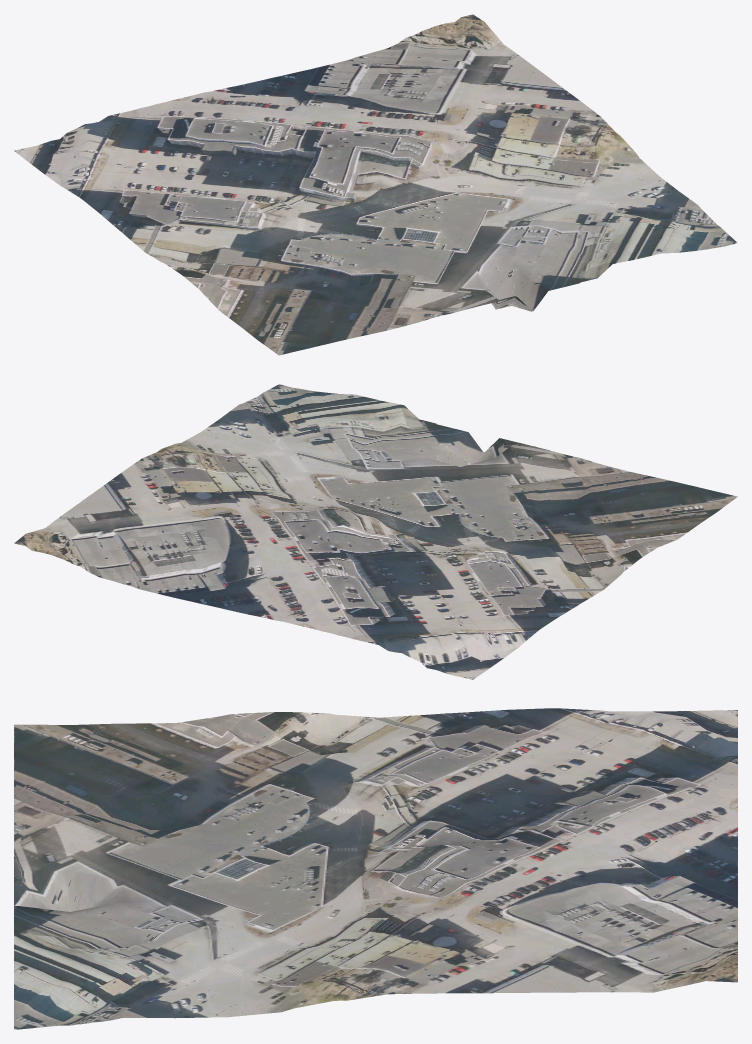
File: CM_Terrain_24490049_6821841.fbx
The picture shows the model from 3 angles, top to bottom: view 1: azimuth 30°, elevation 25°; view 2: azimuth 150°, elevation 25°; view 3: azimuth 270°, elevation 25°; orthographic projection. The views are drawn at different scales.
Visible parts, largest first — view 1: CM_Terrain_24490049_6821841_LOD0; view 2: CM_Terrain_24490049_6821841_LOD0; view 3: CM_Terrain_24490049_6821841_LOD0.
Part boxes in pixels (bbox=[...]): CM_Terrain_24490049_6821841_LOD0: bbox=[14, 14, 737, 355]; CM_Terrain_24490049_6821841_LOD0: bbox=[14, 384, 737, 679]; CM_Terrain_24490049_6821841_LOD0: bbox=[14, 708, 737, 1029].
Size of what is drawn, in the model's own units: 205 by 27.11 by 205.
